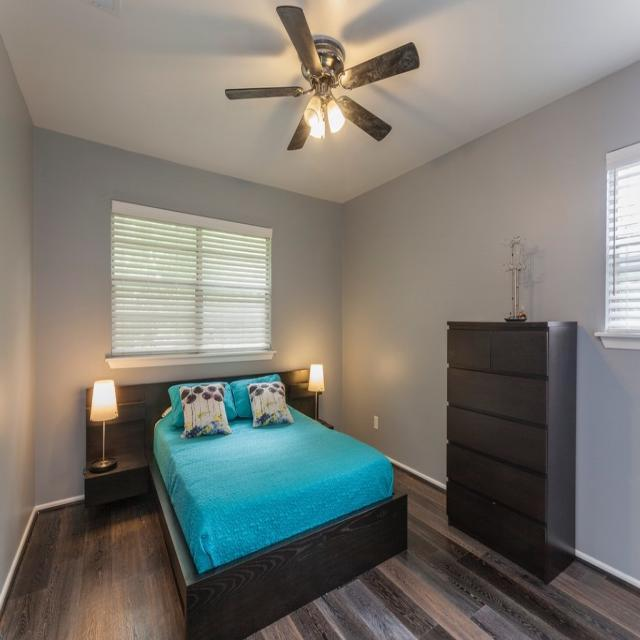fan_off: (223, 5, 424, 155)
